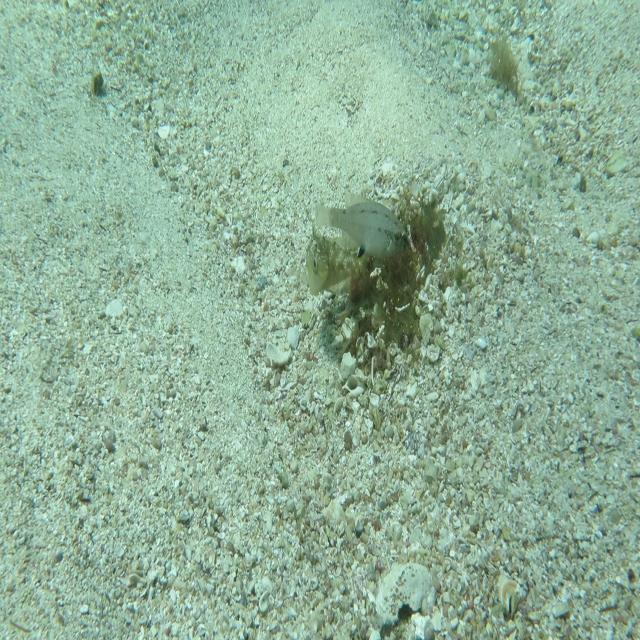BEND: (306, 220, 371, 300)
female: (312, 192, 413, 262)
nest: (310, 172, 464, 392)
